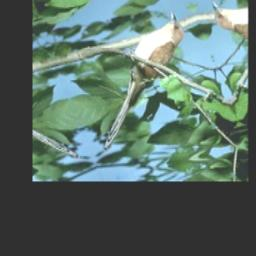Cuckoo: (55, 6, 223, 152)
